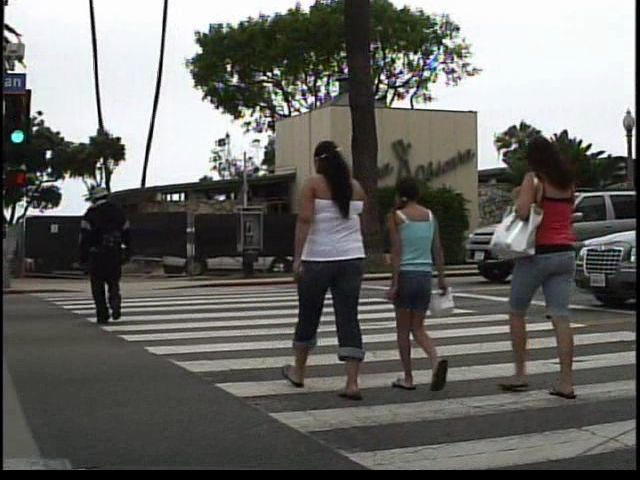person: (282, 130, 388, 402), (503, 136, 595, 407), (380, 171, 454, 400), (69, 182, 135, 333)
